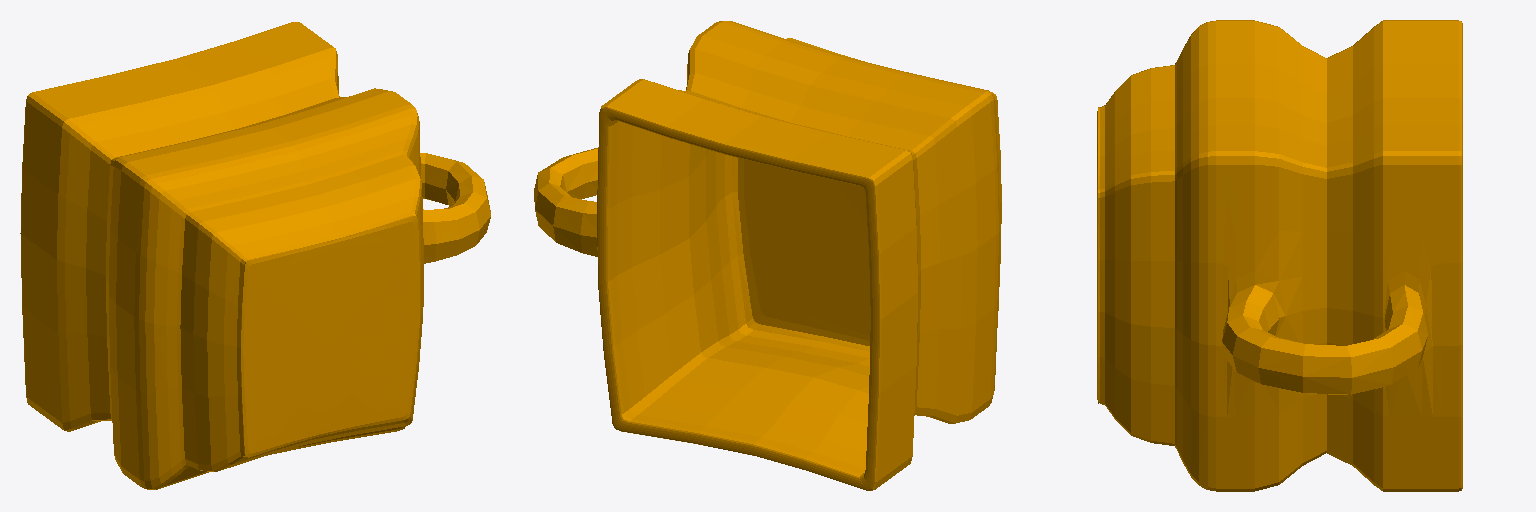
URDF robot description (133):
<?xml version="1.0" ?>
<robot name="133">
  <link name="body">
    <visual>
      <geometry>
        <mesh filename="../shapes/133.obj"/>
      </geometry>
    </visual>
    <collision>
      <geometry>
        <mesh filename="../shapes/133.obj"/>
      </geometry>
    </collision>
  </link>
</robot>

--- What the picture shows (computed from the rendered views, not written in the file) ---
3 views of the same robot in one strip: view 1: azimuth 30°, elevation 25°; view 2: azimuth 150°, elevation 25°; view 3: azimuth 270°, elevation 25° (orthographic).
Robot: 133 — 1 links, 0 joints (none); root link body; default pose: every joint at zero.
Links seen in each view (by area): view 1: body; view 2: body; view 3: body.
Link boxes in pixels (x1=…): body: x1=20, y1=22, x2=490, y2=489; body: x1=534, y1=21, x2=1001, y2=490; body: x1=1097, y1=20, x2=1462, y2=491.
Size in the robot's own frame: 3.38 by 2.5 by 2.61 metres.
Meshes: 1 distinct files referenced, 1 mesh visuals loaded (1 OBJ).